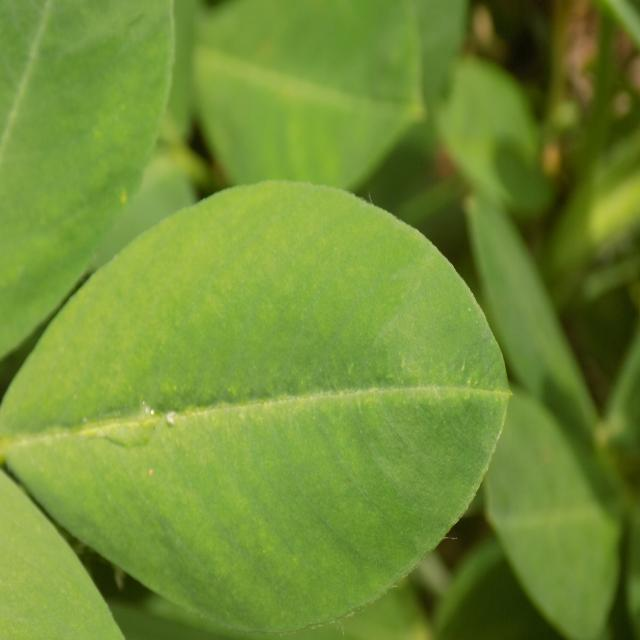Ground nut_healthy: (0, 182, 522, 632)
